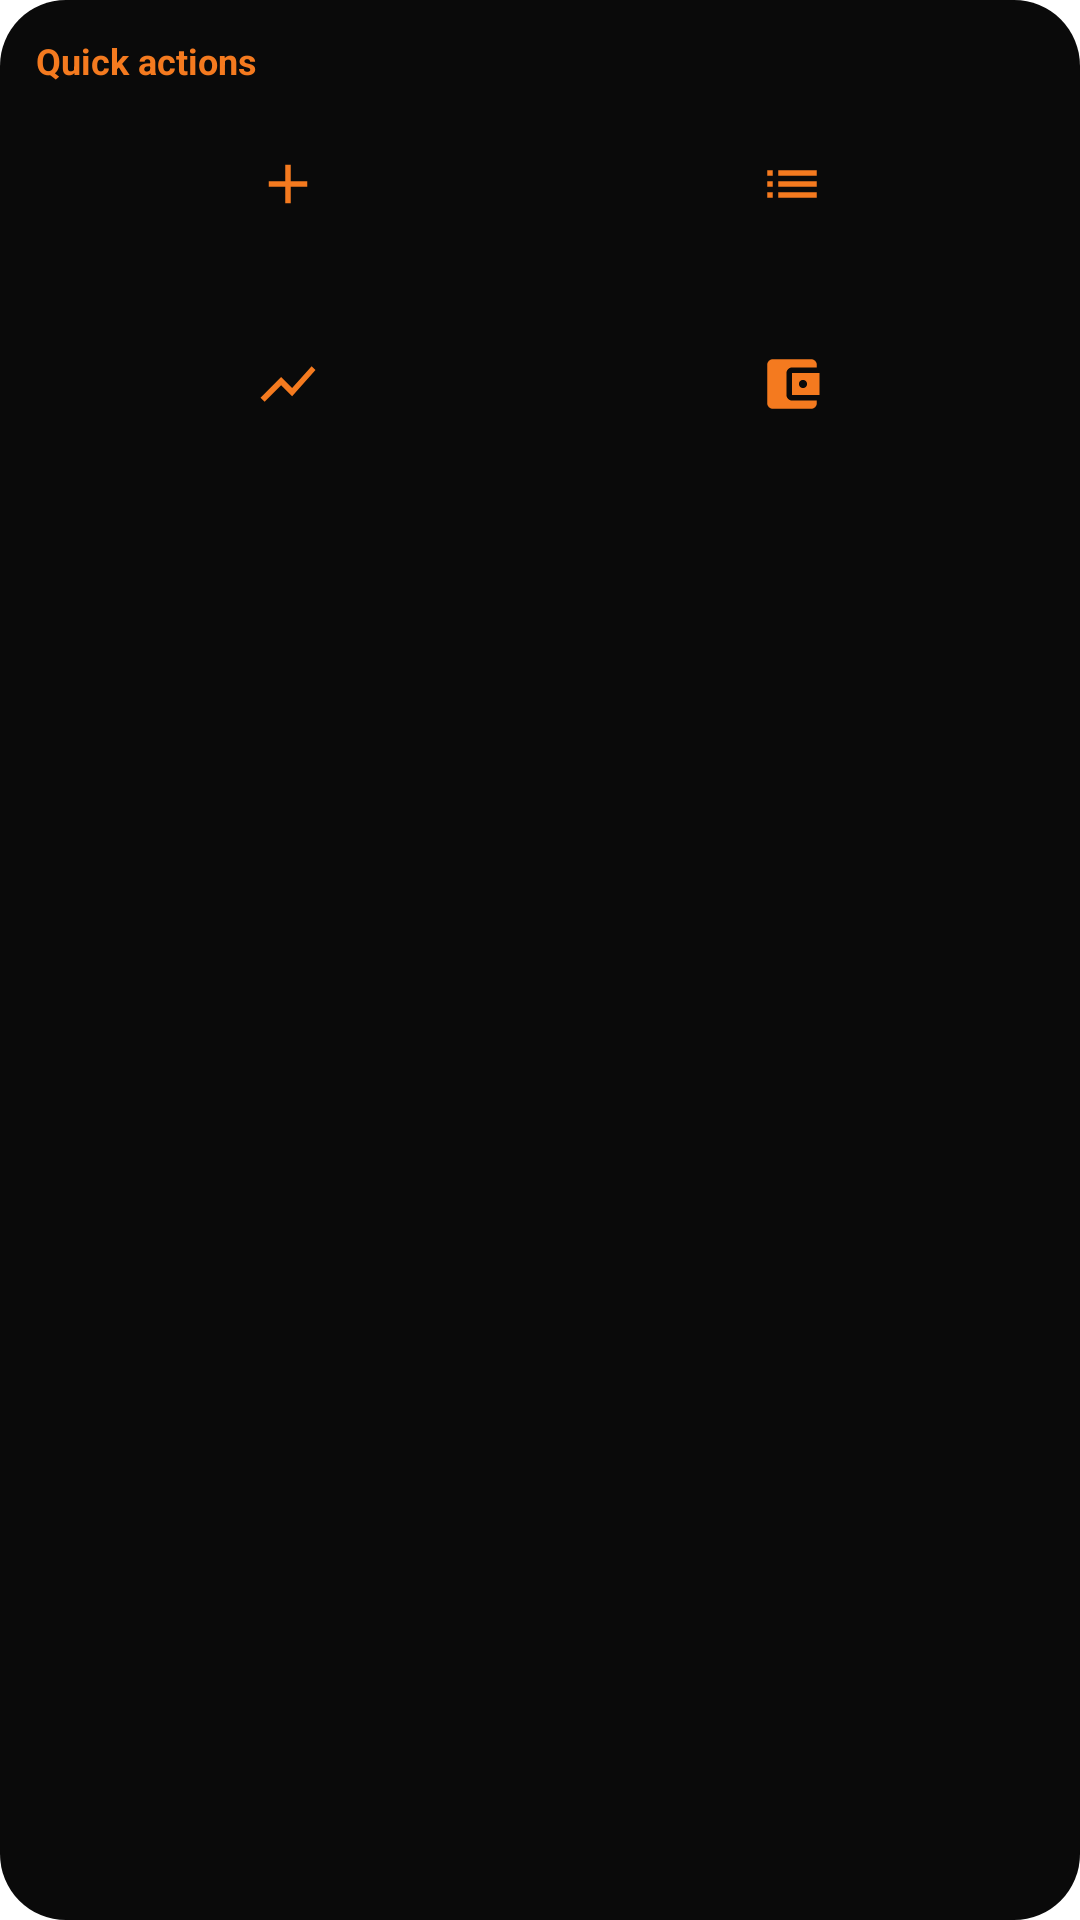

Screen size 1080×1920. Icon name, then its box in pixels as BBox(x1, y1, x2, y2):
widget action add: BBox(268, 164, 308, 204)
widget action chart: BBox(260, 366, 316, 402)
widget action list: BBox(767, 170, 817, 198)
widget action wallet: BBox(767, 359, 820, 409)
